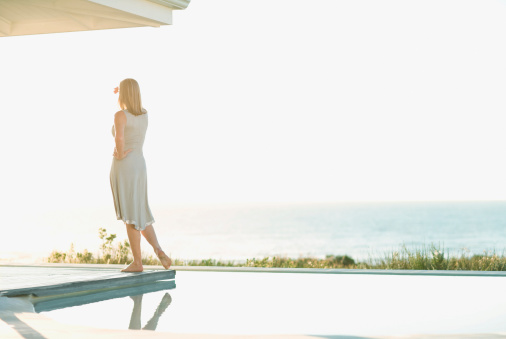em pe: (106, 62, 159, 279)
